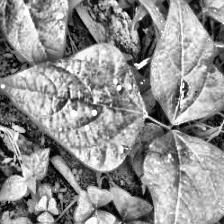Bean Rust: (0, 41, 147, 172), (143, 130, 224, 224)
